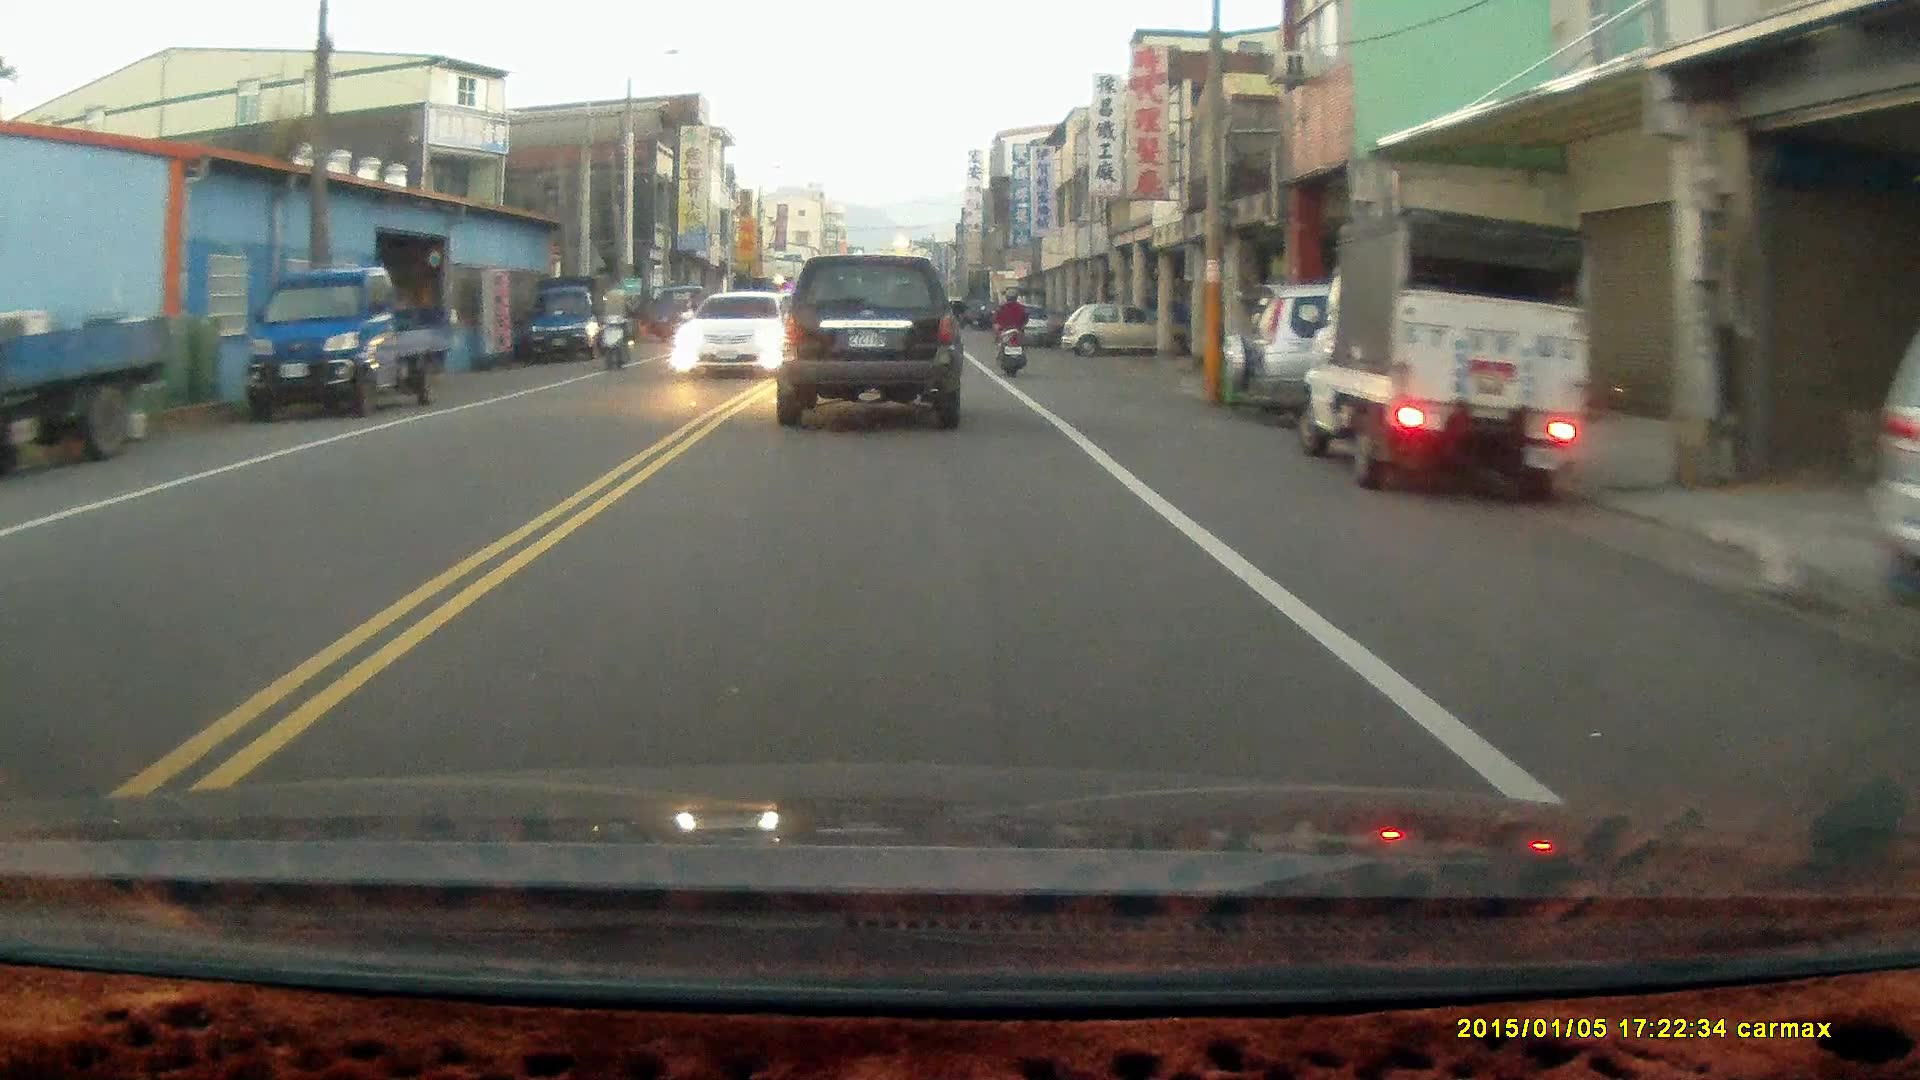rider: (594, 278, 633, 373), (992, 281, 1029, 377)
vehicle: (1300, 207, 1596, 512), (1220, 277, 1572, 430), (1, 265, 180, 475), (771, 255, 966, 431), (243, 270, 455, 419), (680, 290, 793, 381), (519, 277, 628, 363), (1065, 305, 1153, 358)
